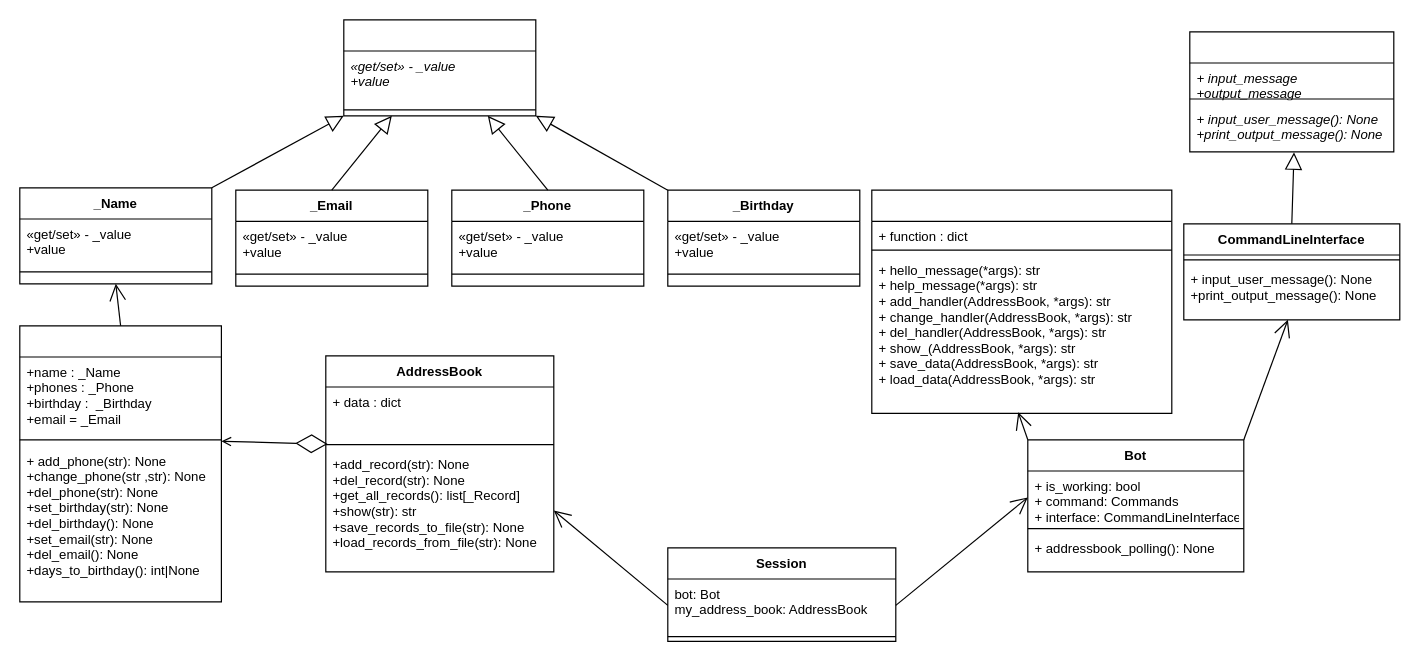
The diagram is 1420 pixels wide and 661 high, and some of its shapes have lost their labels. Here are the shapes that lost their labels. From the top down, the box of each, then its label:
(343, 19, 536, 116): _Field
(1189, 31, 1394, 152): Interface
(871, 189, 1172, 413): Commands
(19, 325, 221, 602): _Record
